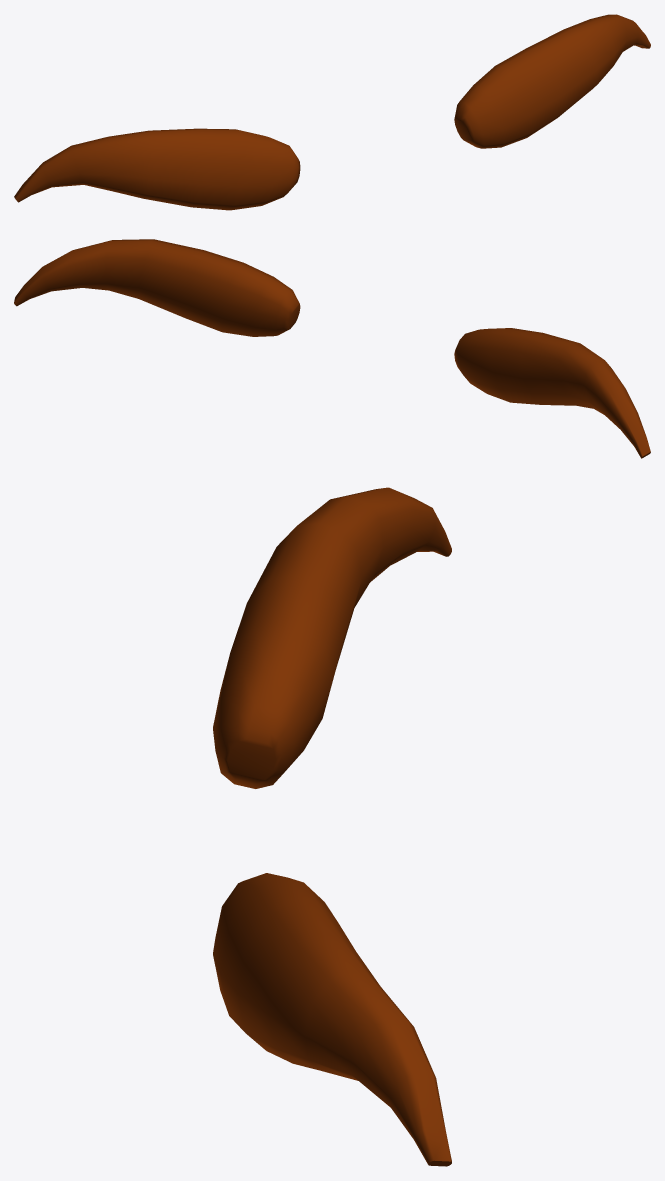
Rendered from Eyebrows_23_02.fbx.
3 renders of one model, top to bottom at view 1: azimuth 30°, elevation 25°; view 2: azimuth 150°, elevation 25°; view 3: azimuth 270°, elevation 25°, orthographic. The views are drawn at different scales.
Visible parts, largest first — view 1: Eyebrows_23_02; view 2: Eyebrows_23_02; view 3: Eyebrows_23_02.
Boxes of the visible parts, box(x1,y1,x2,y2) form: Eyebrows_23_02: box(14, 14, 650, 210); Eyebrows_23_02: box(14, 239, 650, 458); Eyebrows_23_02: box(213, 487, 451, 1166).
Size of the model in its own units: 19.19 by 2.4 by 3.13.
